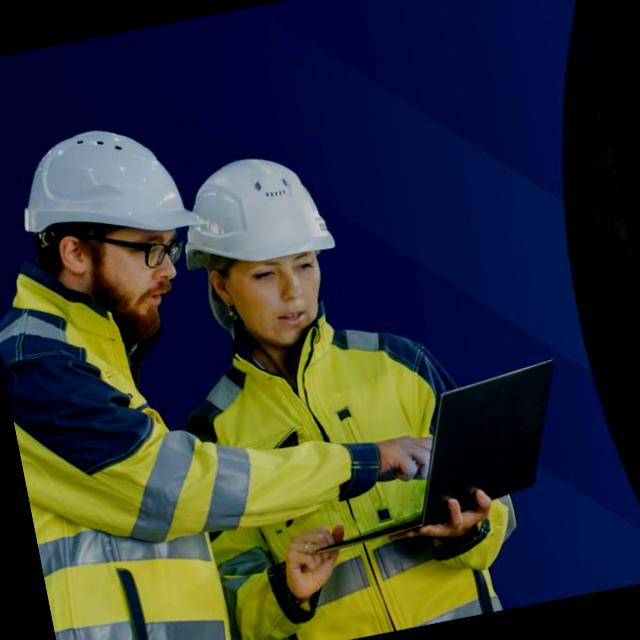helmet: (2, 106, 207, 267), (165, 117, 352, 285)
no-goggles: (54, 206, 194, 293), (213, 244, 334, 295)
vest: (164, 295, 521, 640), (0, 247, 268, 640)
